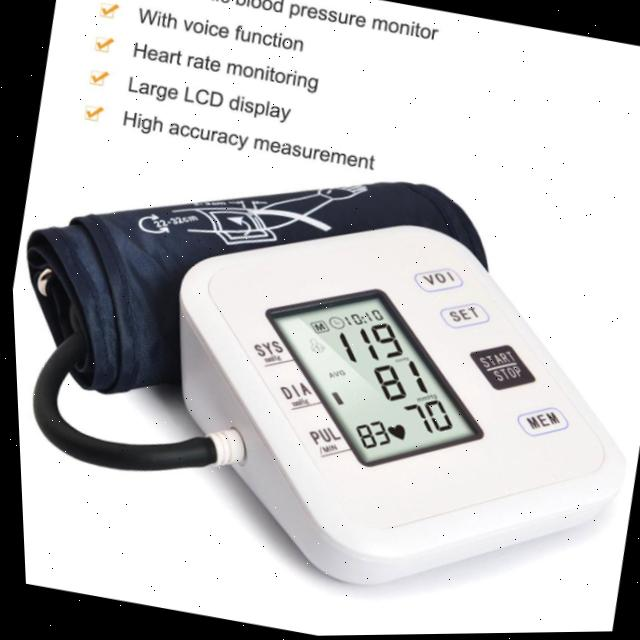dia: (364, 355, 432, 408)
pul: (398, 393, 458, 442)
ssd: (263, 260, 479, 500)
sys: (327, 312, 405, 377)
